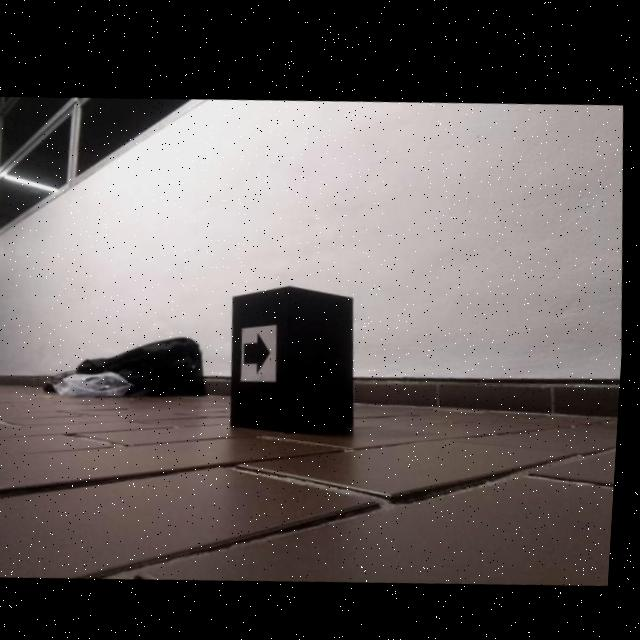RIGHT: (247, 330, 275, 370)
